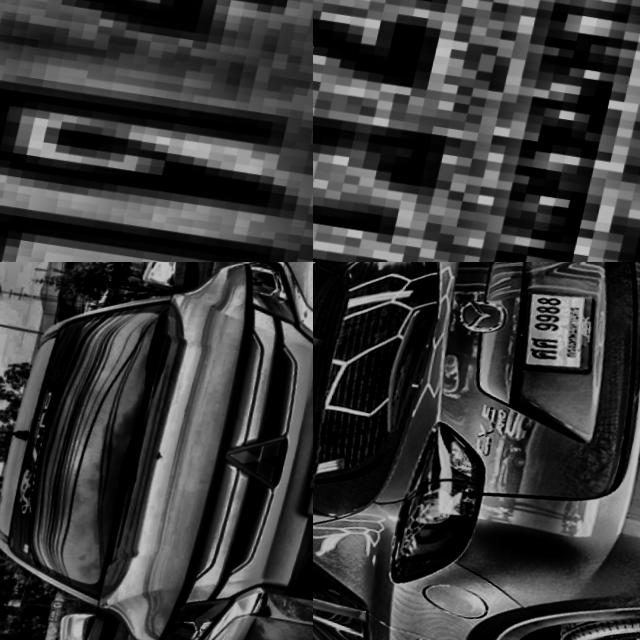license-plate: (313, 0, 640, 262), (0, 0, 313, 262), (511, 286, 605, 378)
